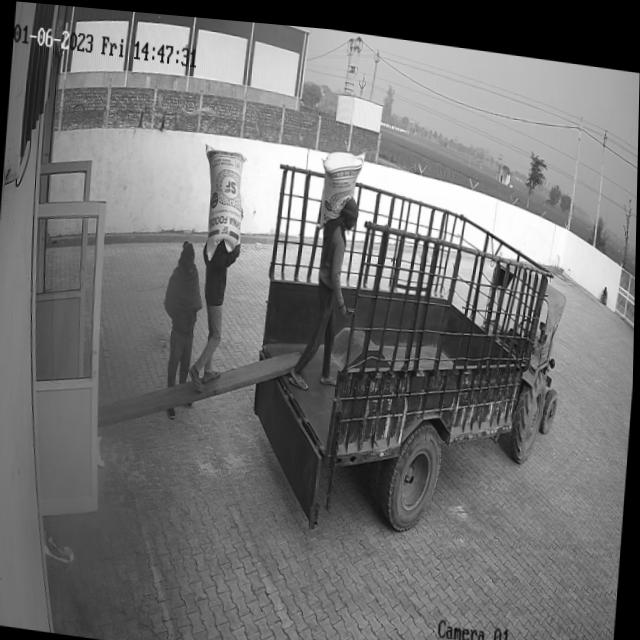sack: (197, 138, 247, 262), (318, 139, 364, 229)
